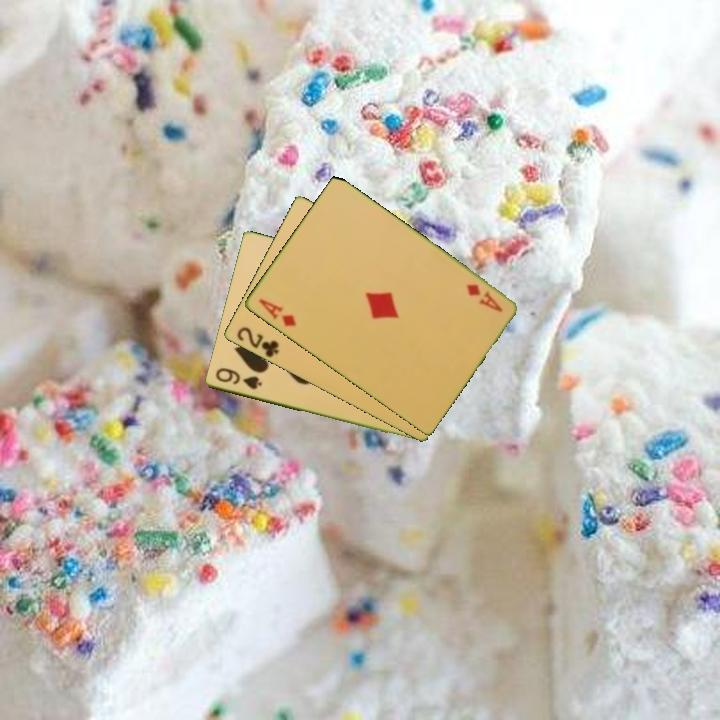2c: (233, 323, 281, 361)
9s: (211, 364, 265, 393)
Ad: (255, 295, 299, 330), (462, 280, 505, 315)
